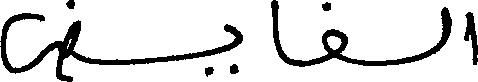X: (0, 0, 81, 81), (321, 0, 348, 67), (225, 19, 241, 78), (272, 0, 284, 66), (437, 2, 450, 56), (466, 7, 477, 69)
